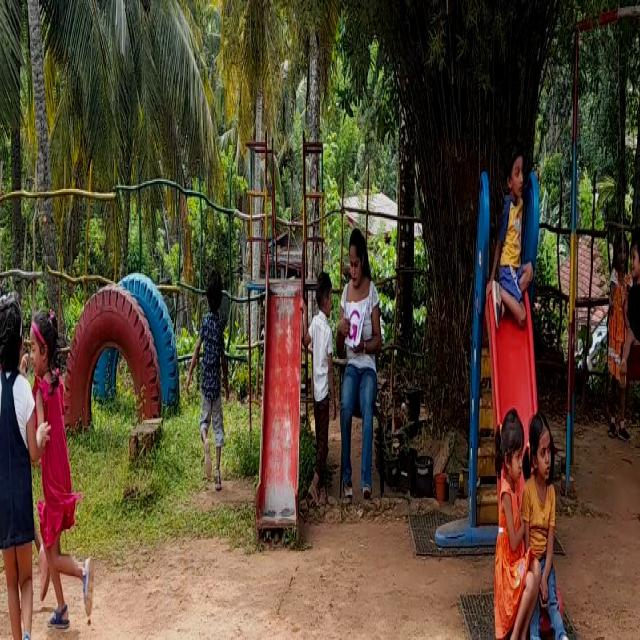adult: (338, 201, 386, 508)
child: (30, 293, 100, 640), (0, 290, 41, 640), (521, 392, 572, 640), (488, 392, 528, 640), (491, 128, 536, 334), (190, 250, 228, 492), (305, 272, 341, 498), (619, 229, 640, 406)
